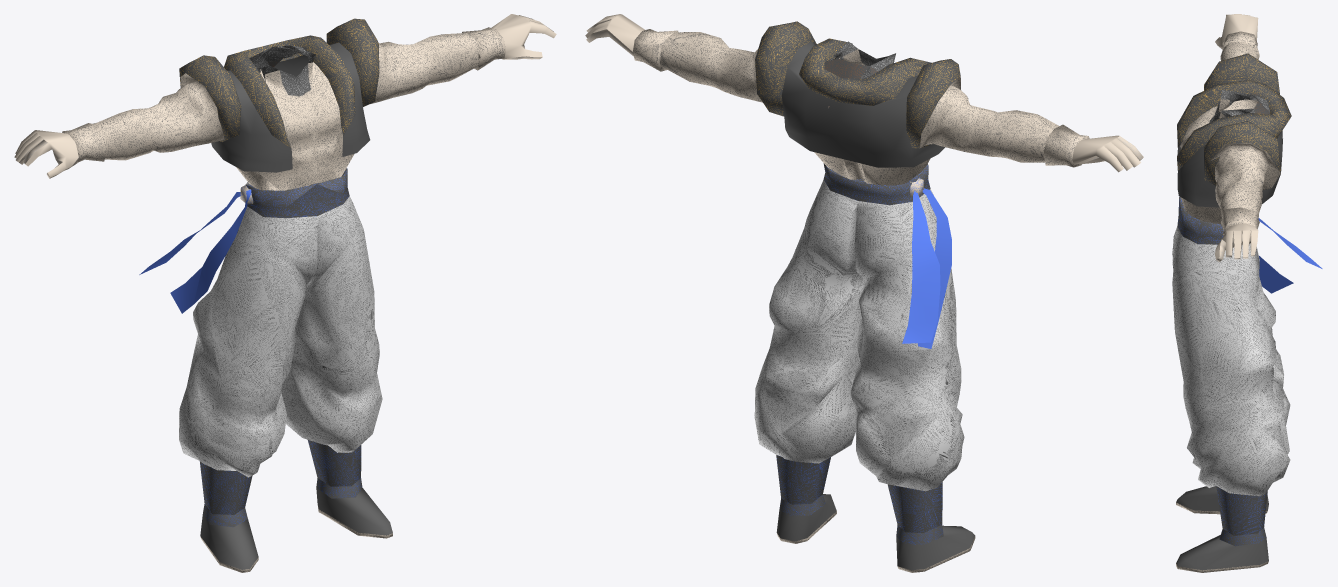
File: buddha.dae
The picture shows the model from 3 angles, left to right: view 1: azimuth 30°, elevation 25°; view 2: azimuth 150°, elevation 25°; view 3: azimuth 270°, elevation 25°; orthographic projection. The views are drawn at different scales.
Parts seen in each view (by area): view 1: instance_2, instance_2_008, instance_2_005, instance_2_011, instance_2_003, instance_2_001, instance_2_036, instance_2_004, instance_2_002, instance_2_034, instance_2_033, instance_2_027 (+7 smaller); view 2: instance_2, instance_2_011, instance_2_005, instance_2_003, instance_2_001, instance_2_041, instance_2_002, instance_2_004, instance_2_027, instance_2_033, instance_2_036, instance_2_029 (+7 smaller); view 3: instance_2, instance_2_001, instance_2_003, instance_2_034, instance_2_002, instance_2_011, instance_2_029, instance_2_004, instance_2_036, instance_2_008, instance_2_025, instance_2_033 (+10 smaller).
Boxes of the visible parts, x1,y1,x2,y2 form: instance_2: (179,196,382,477); instance_2_008: (236,62,354,190); instance_2_005: (93,73,224,160); instance_2_011: (211,42,370,172); instance_2_003: (371,33,478,103); instance_2_001: (224,35,355,148); instance_2_036: (246,168,349,218); instance_2_004: (179,55,241,142); instance_2_002: (326,18,379,106); instance_2_034: (316,488,392,535); instance_2_033: (200,514,258,569); instance_2_027: (200,461,252,514); instance_2: (754,179,964,491); instance_2_011: (781,42,944,167); instance_2_005: (919,76,1059,162); instance_2_003: (660,32,762,102); instance_2_001: (799,38,931,105); instance_2_041: (902,191,940,343); instance_2_002: (755,21,816,116); instance_2_004: (906,59,960,148); instance_2_027: (887,482,942,532); instance_2_033: (896,525,975,570); instance_2_036: (823,163,930,205); instance_2_029: (776,455,830,504); instance_2: (1172,226,1290,496); instance_2_001: (1177,80,1291,170); instance_2_003: (1211,143,1280,218); instance_2_034: (1176,535,1268,570); instance_2_002: (1204,121,1280,189); instance_2_011: (1177,79,1282,207); instance_2_029: (1216,486,1267,535); instance_2_004: (1204,53,1279,94); instance_2_036: (1177,196,1223,244); instance_2_008: (1180,99,1229,224); instance_2_025: (1215,223,1258,259); instance_2_033: (1176,486,1268,511).
Bounding box in the file's own units: 1.73 × 0.4627 × 1.51.
